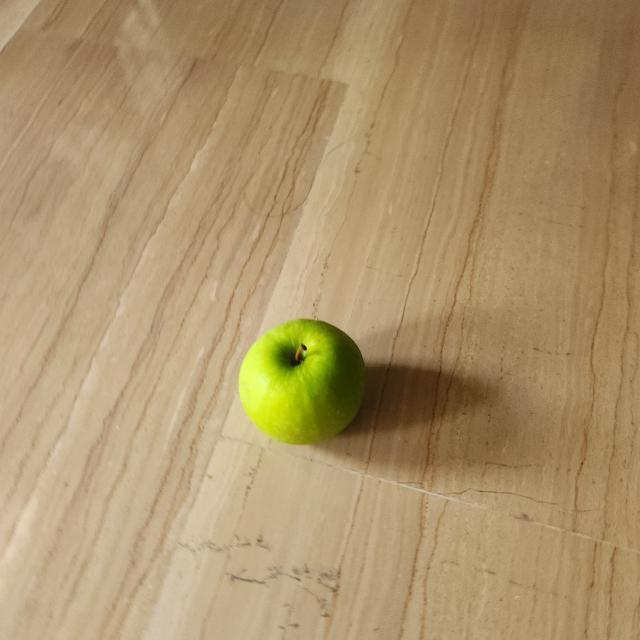apple: (233, 314, 374, 454)
